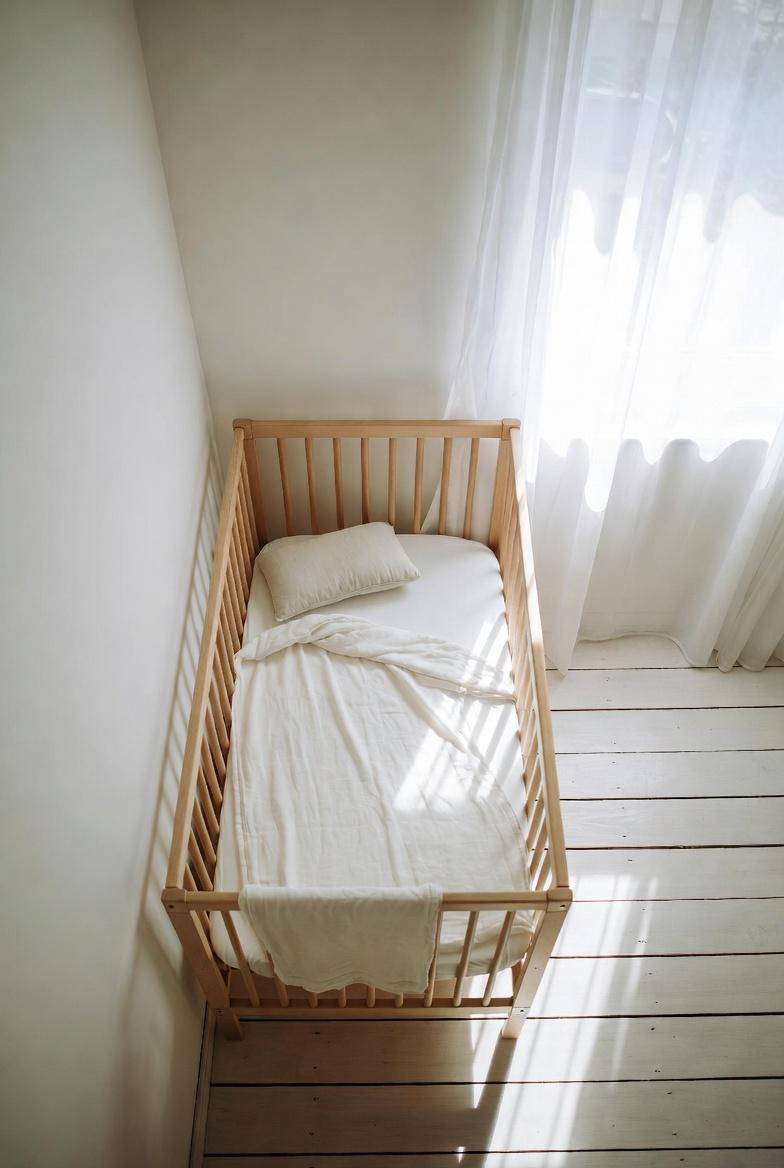crib: (154, 397, 592, 1065)
